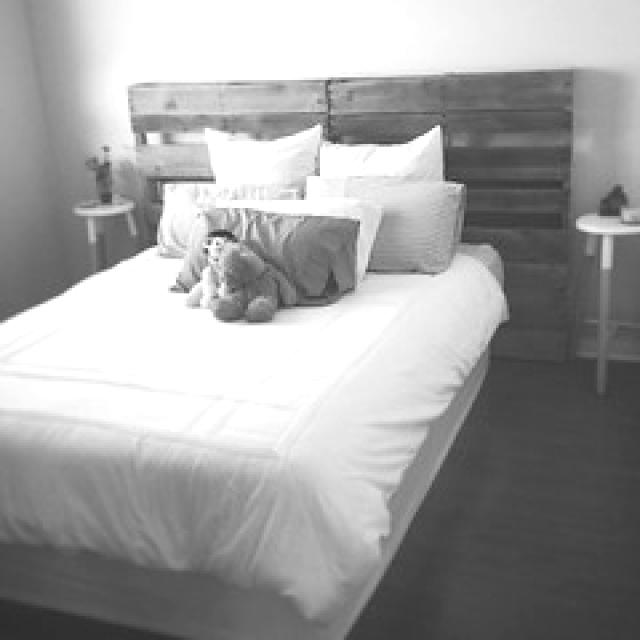bed: (0, 128, 515, 635)
